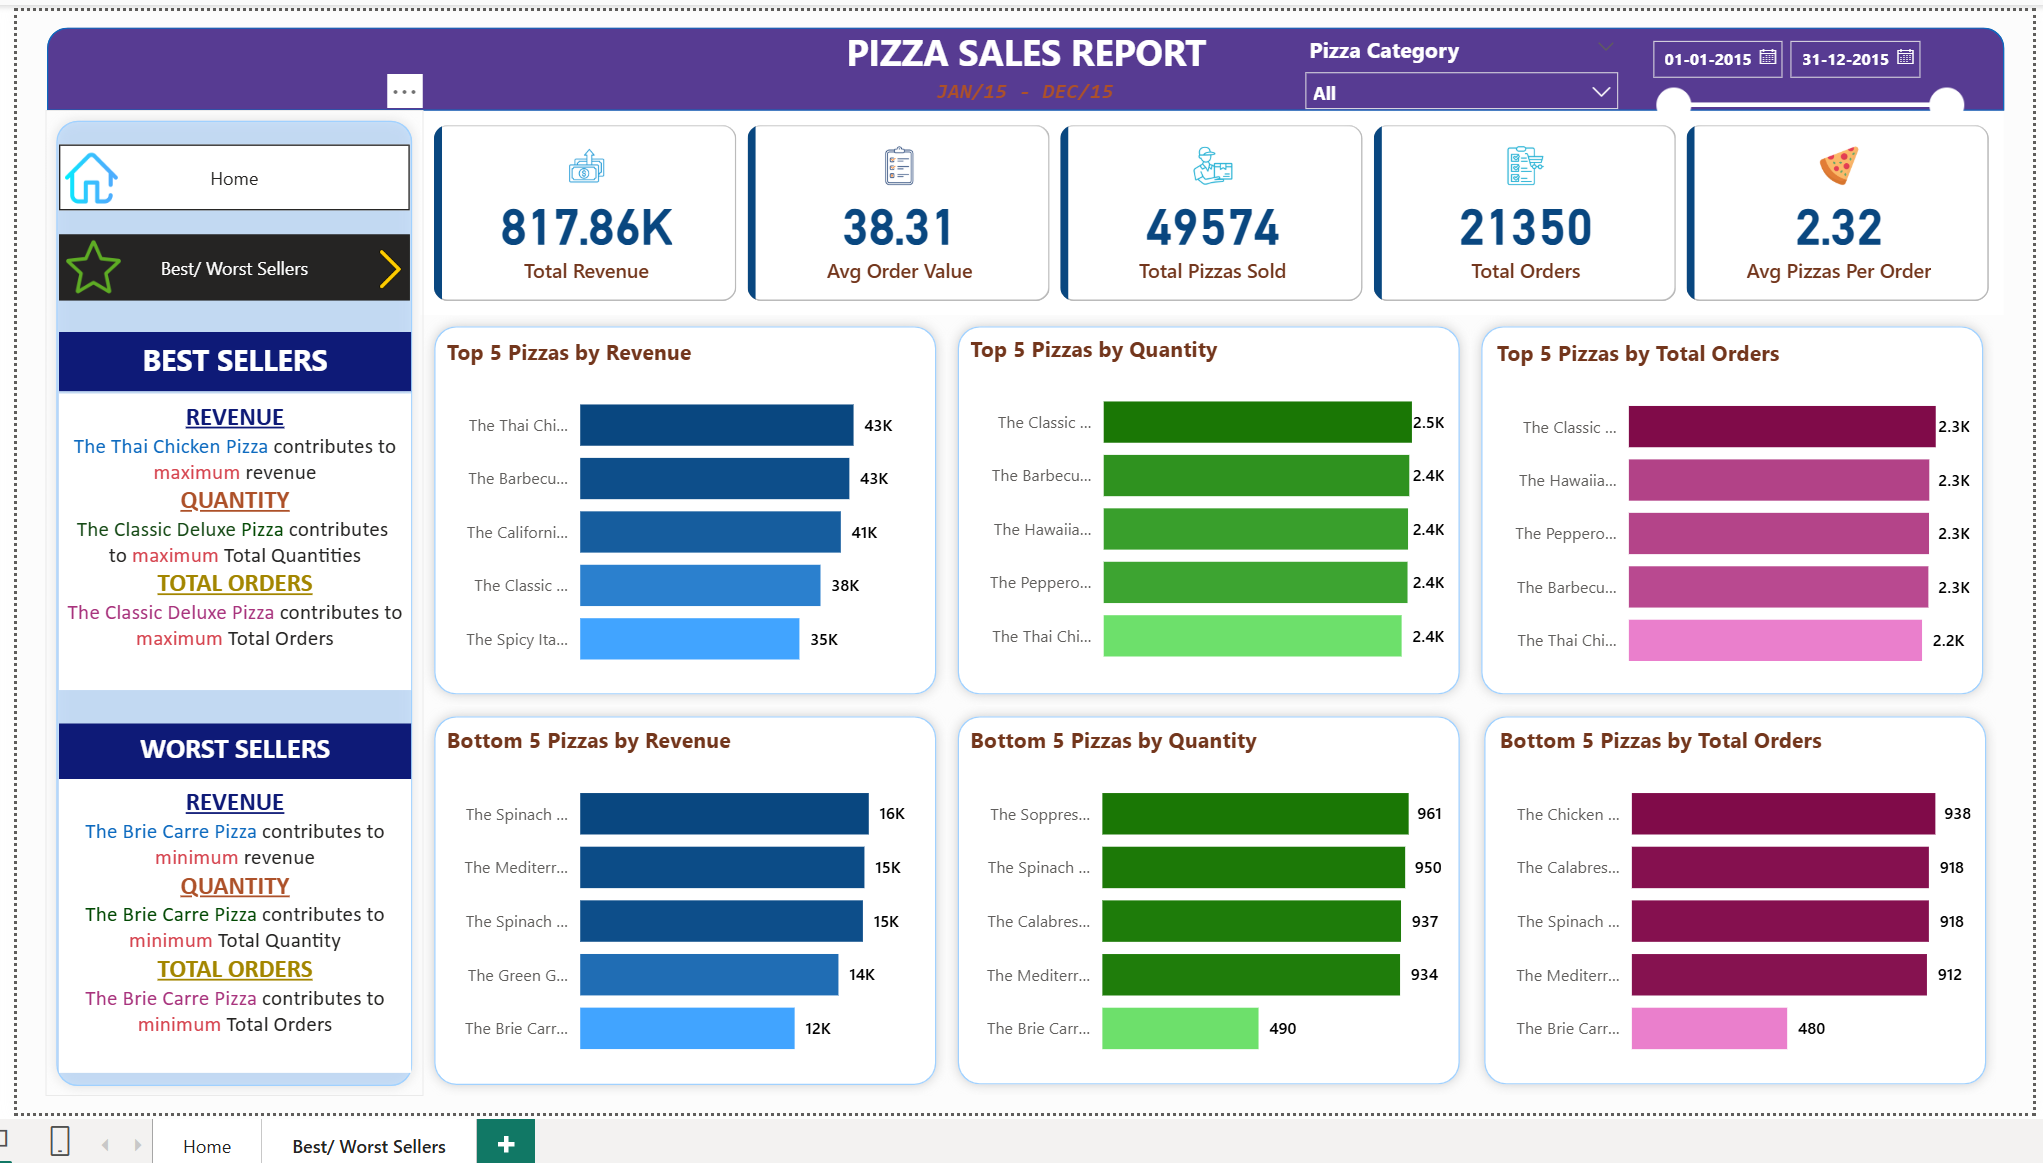

The dashboard page shown, as its layout file describes it:
{"tool":"powerbi","page":{"name":"Best/ Worst Sellers","canvas":[1500,820],"ordinal":1},"visuals":[{"type":"cardVisual","fields":{"Data":["pizza_db pizza_sales.Total Revenue","pizza_db pizza_sales.Avg Order Value","pizza_db pizza_sales.Total Pizzas Sold","pizza_db pizza_sales.Total Orders","pizza_db pizza_sales.Avg Pizzas Per Order"]},"box":[300.5,74.7,1178.3,151.1],"z":0},{"type":"shape","box":[22.3,12.7,1456.5,62],"z":1000},{"type":"textbox","box":[601.1,6.4,298.9,62],"z":2000},{"type":"textbox","box":[675.8,44.5,149.5,42.9],"z":3000},{"type":"shape","box":[302.2,226.7,389.6,290],"z":4000},{"type":"shape","box":[21.2,73.2,281,734.3],"z":5000},{"type":"textbox","box":[31.2,239.1,262,43.7],"z":6000},{"type":"textbox","box":[31.2,284.9,262,220.4],"z":7000},{"type":"textbox","box":[31.2,530.3,262,41.6],"z":8000},{"type":"textbox","box":[31.2,571.9,262,218.3],"z":9000},{"type":"slicer","fields":{"Values":["pizza_db pizza_sales.pizza_category"]},"box":[949.1,11.8,252.6,61.4],"z":10000},{"type":"slicer","fields":{"Values":["pizza_db pizza_sales.Date"]},"box":[1204.1,11.8,252.6,75.6],"z":11000},{"type":"shape","box":[691.8,226.7,389.6,290],"z":12000},{"type":"shape","box":[1081.3,226.7,389.6,290],"z":13000},{"type":"shape","box":[302.2,517.1,389.6,290.4],"z":14000},{"type":"shape","box":[691.8,517.1,389.6,290],"z":15000},{"type":"shape","box":[1083.7,517.1,389.6,290],"z":16000},{"type":"barChart","title":"Top 5 Pizzas by Revenue","fields":{"Category":["pizza_db pizza_sales.pizza_name"],"Y":["pizza_db pizza_sales.Total Revenue"]},"box":[315.3,242.8,362.7,262],"z":17000},{"type":"barChart","title":"Bottom 5 Pizzas by Revenue","fields":{"Category":["pizza_db pizza_sales.pizza_name"],"Y":["pizza_db pizza_sales.Total Revenue"]},"box":[314.8,530.9,363.2,262.9],"z":18000},{"type":"barChart","title":"Top 5 Pizzas by Quantity","fields":{"Category":["pizza_db pizza_sales.pizza_name"],"Y":["pizza_db pizza_sales.Total Pizzas Sold"]},"box":[704.6,239.8,362.7,262],"z":19000},{"type":"barChart","title":"Bottom 5 Pizzas by Quantity","fields":{"Category":["pizza_db pizza_sales.pizza_name"],"Y":["pizza_db pizza_sales.Total Pizzas Sold"]},"box":[704.8,531.3,360.5,263],"z":20000},{"type":"barChart","title":"Top 5 Pizzas by Total Orders","fields":{"Category":["pizza_db pizza_sales.pizza_name"],"Y":["pizza_db pizza_sales.Total Orders"]},"box":[1095.9,243.3,361.8,262],"z":21000},{"type":"barChart","title":"Bottom 5 Pizzas by Total Orders","fields":{"Category":["pizza_db pizza_sales.pizza_name"],"Y":["pizza_db pizza_sales.Total Orders"]},"box":[1097.9,531.3,360.5,263],"z":22000},{"type":"pageNavigator","box":[30.9,99.7,261.3,49.8],"z":23000},{"type":"pageNavigator","box":[30.9,166.7,261.3,49.8],"z":24000},{"type":"image","box":[254.4,177,46.4,29.2],"z":25000},{"type":"image","box":[36.1,103.1,39.5,43],"z":26000},{"type":"image","box":[34.4,170.2,44.7,41.3],"z":27000}]}

Visuals, with their boxes on the page's 1500x820 design canvas (x1, y1, x2, y2). These are canvas units, not pixel positions in the 2043x1163 screenshot, which may show the page scaled, cropped or inside an application window:
cardVisual - pizza_db pizza_sales.Total Revenue x pizza_db pizza_sales.Avg Order Value: bbox=(300, 75, 1479, 226)
shape: bbox=(22, 13, 1479, 75)
textbox: bbox=(601, 6, 900, 68)
textbox: bbox=(676, 44, 825, 87)
shape: bbox=(302, 227, 692, 517)
shape: bbox=(21, 73, 302, 808)
textbox: bbox=(31, 239, 293, 283)
textbox: bbox=(31, 285, 293, 505)
textbox: bbox=(31, 530, 293, 572)
textbox: bbox=(31, 572, 293, 790)
slicer - pizza_db pizza_sales.pizza_category: bbox=(949, 12, 1202, 73)
slicer - pizza_db pizza_sales.Date: bbox=(1204, 12, 1457, 87)
shape: bbox=(692, 227, 1081, 517)
shape: bbox=(1081, 227, 1471, 517)
shape: bbox=(302, 517, 692, 808)
shape: bbox=(692, 517, 1081, 807)
shape: bbox=(1084, 517, 1473, 807)
"Top 5 Pizzas by Revenue" barChart: bbox=(315, 243, 678, 505)
"Bottom 5 Pizzas by Revenue" barChart: bbox=(315, 531, 678, 794)
"Top 5 Pizzas by Quantity" barChart: bbox=(705, 240, 1067, 502)
"Bottom 5 Pizzas by Quantity" barChart: bbox=(705, 531, 1065, 794)
"Top 5 Pizzas by Total Orders" barChart: bbox=(1096, 243, 1458, 505)
"Bottom 5 Pizzas by Total Orders" barChart: bbox=(1098, 531, 1458, 794)
pageNavigator: bbox=(31, 100, 292, 150)
pageNavigator: bbox=(31, 167, 292, 216)
image: bbox=(254, 177, 301, 206)
image: bbox=(36, 103, 76, 146)
image: bbox=(34, 170, 79, 212)
